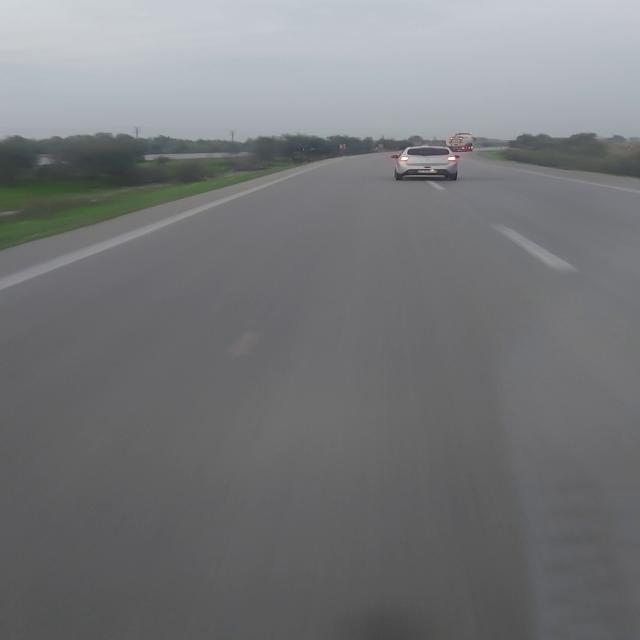Car: (392, 145, 462, 183)
Truck: (446, 132, 478, 152)
